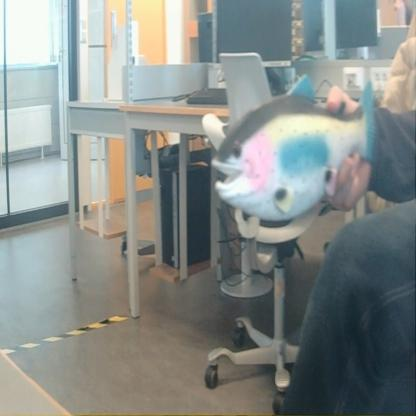rubberfish: (208, 72, 380, 224)
